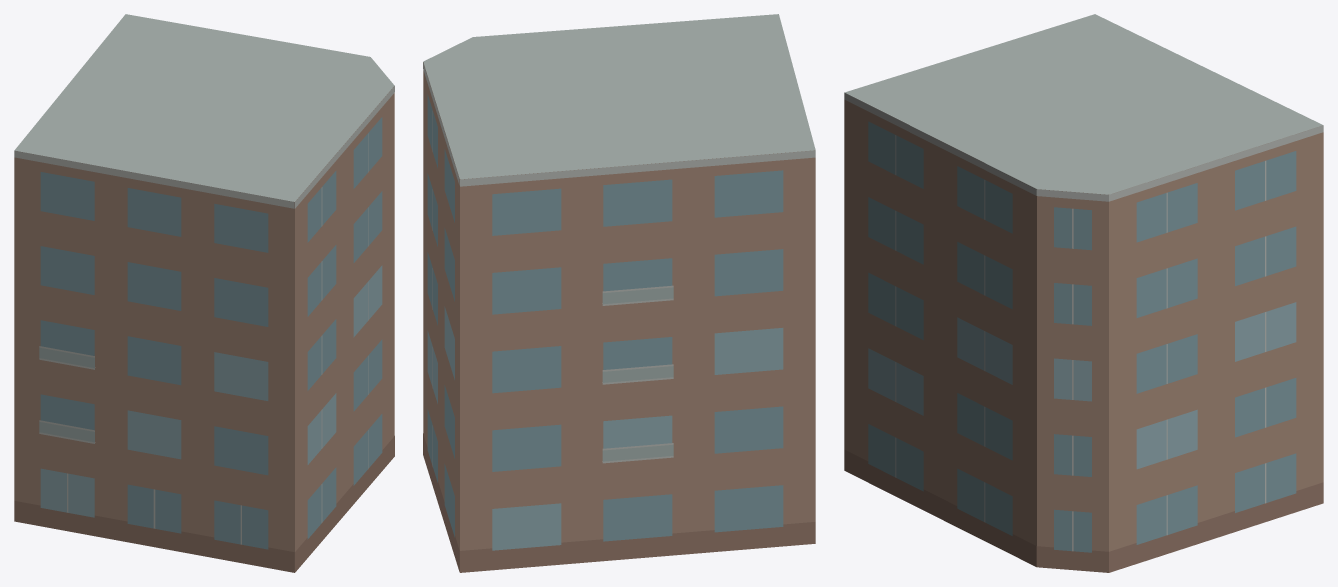
File: survey-upis-32675487.glb
The picture shows the model from 3 angles, left to right: view 1: azimuth 30°, elevation 25°; view 2: azimuth 150°, elevation 25°; view 3: azimuth 270°, elevation 25°; orthographic projection. The views are drawn at different scales.
Visible parts, largest first — view 1: survey-upis-32675487.tmp; view 2: survey-upis-32675487.tmp; view 3: survey-upis-32675487.tmp.
Boxes of the visible parts, <box> form: survey-upis-32675487.tmp: <box>14,14,394,572</box>; survey-upis-32675487.tmp: <box>423,14,815,572</box>; survey-upis-32675487.tmp: <box>844,14,1323,572</box>.
Size of the model in its own units: 13.54 by 13.2 by 15.17.
